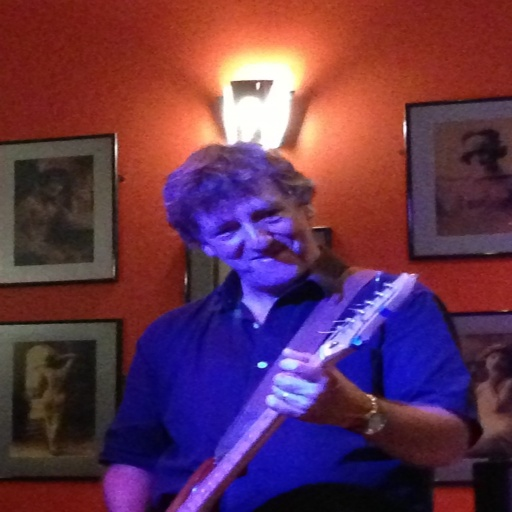hand: (264, 318, 371, 437)
